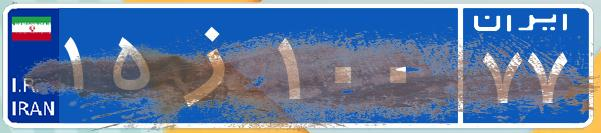0: (385, 28, 445, 110), (330, 28, 385, 110)
1: (273, 28, 330, 110), (57, 26, 110, 107)
5: (110, 28, 158, 105)
7: (475, 38, 525, 113), (525, 38, 570, 115)
ز: (158, 15, 273, 115)
